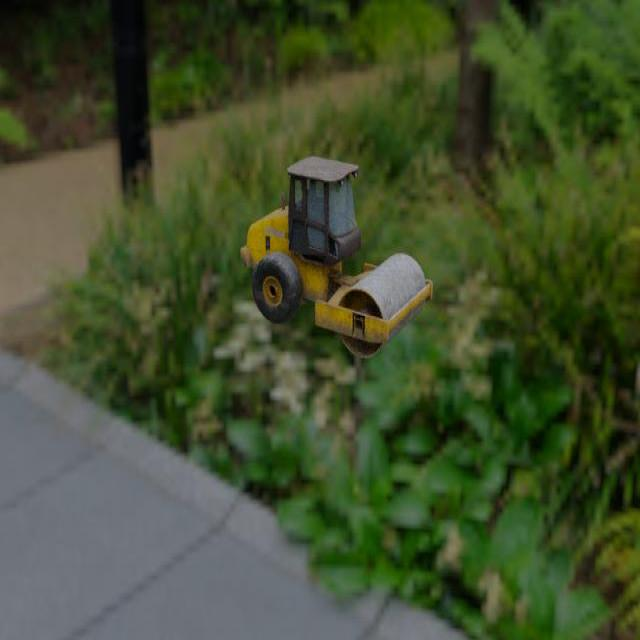Roller: (240, 154, 433, 358)
